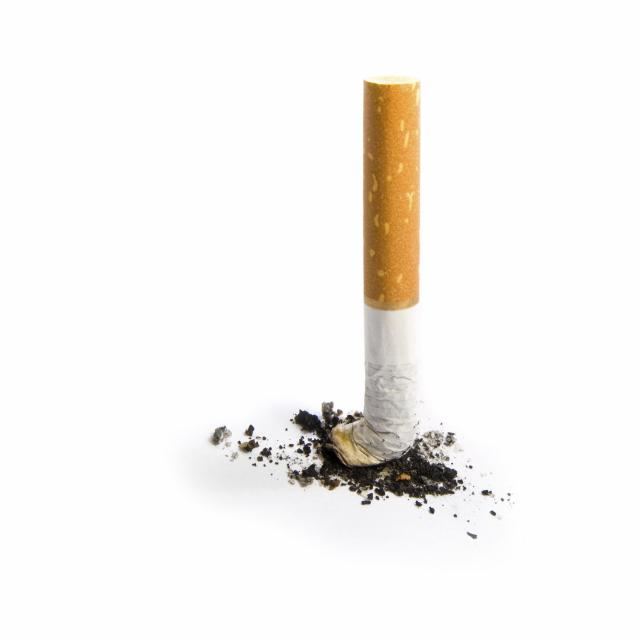cigarette: (332, 75, 421, 467)
